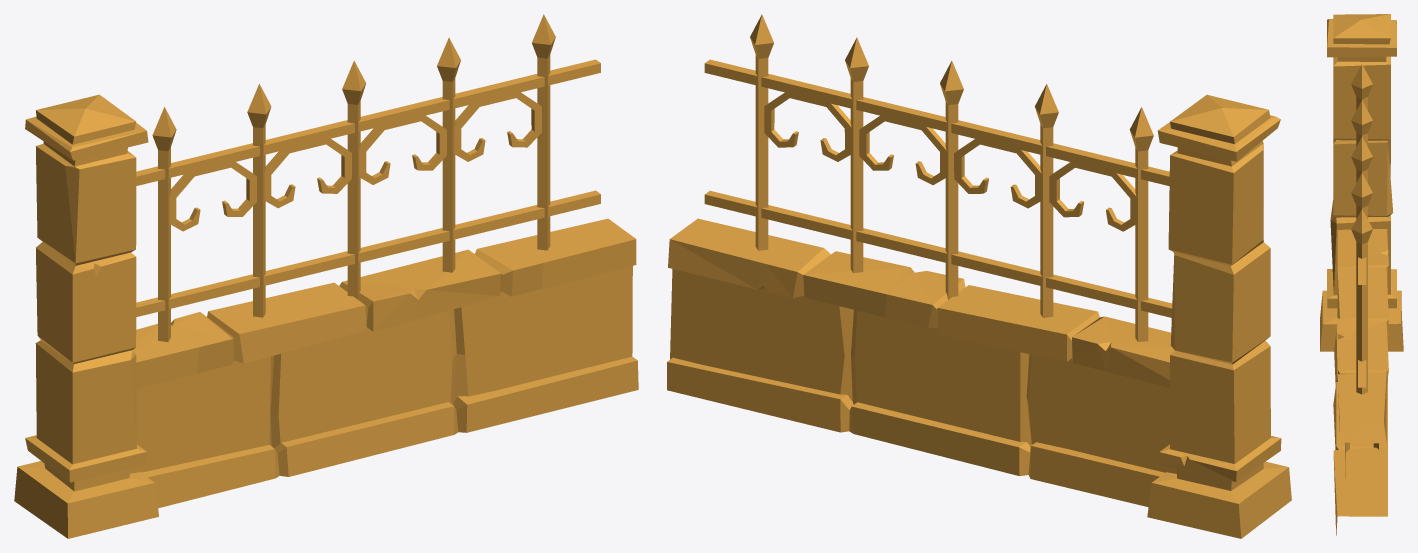
Rendered from wall-graveyard-2m.fbx.
3 renders of one model, left to right at view 1: azimuth 30°, elevation 25°; view 2: azimuth 150°, elevation 25°; view 3: azimuth 270°, elevation 25°, orthographic. The views are drawn at different scales.
Parts seen in each view (by area): view 1: wall-graveyard-2m; view 2: wall-graveyard-2m; view 3: wall-graveyard-2m.
Part boxes in pixels (box(x1,y1,x2,y2)): wall-graveyard-2m: box(14, 14, 638, 538); wall-graveyard-2m: box(667, 14, 1291, 538); wall-graveyard-2m: box(1320, 14, 1403, 535).
Size of the model in its own units: 2.19 by 1.43 by 0.345.
